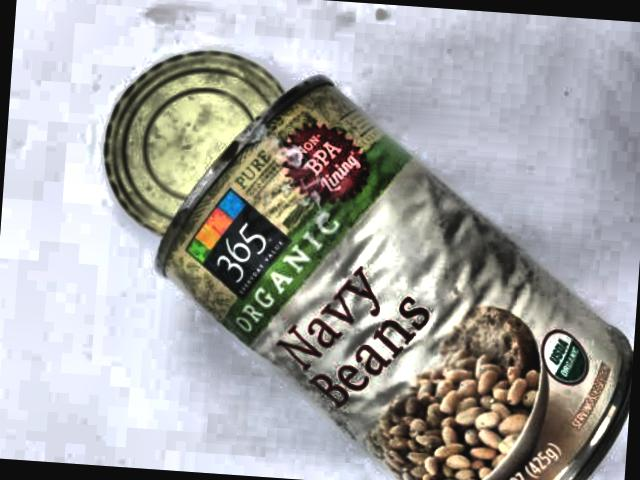Almennt: (55, 20, 640, 480)
